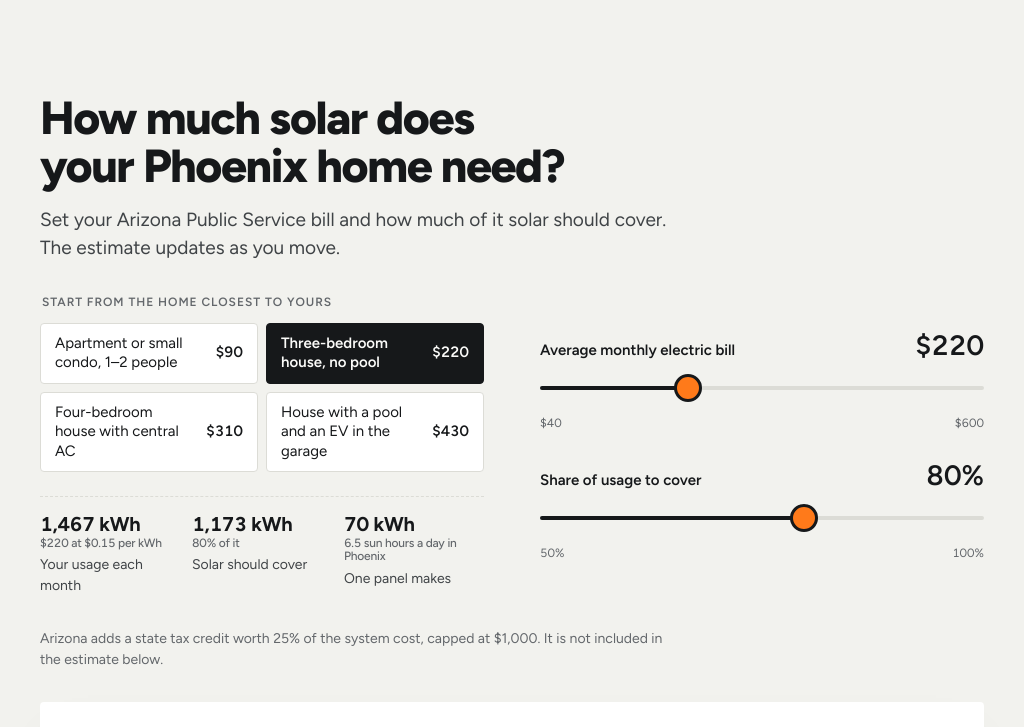
what the simulator explains › says the city minimum raised the panel count
This screenshot has width=1024, height=727.
Click the button "Apartment or small condo, 1–2 people $90" at (149, 353), box [40,323,258,384]
(page scrolled)
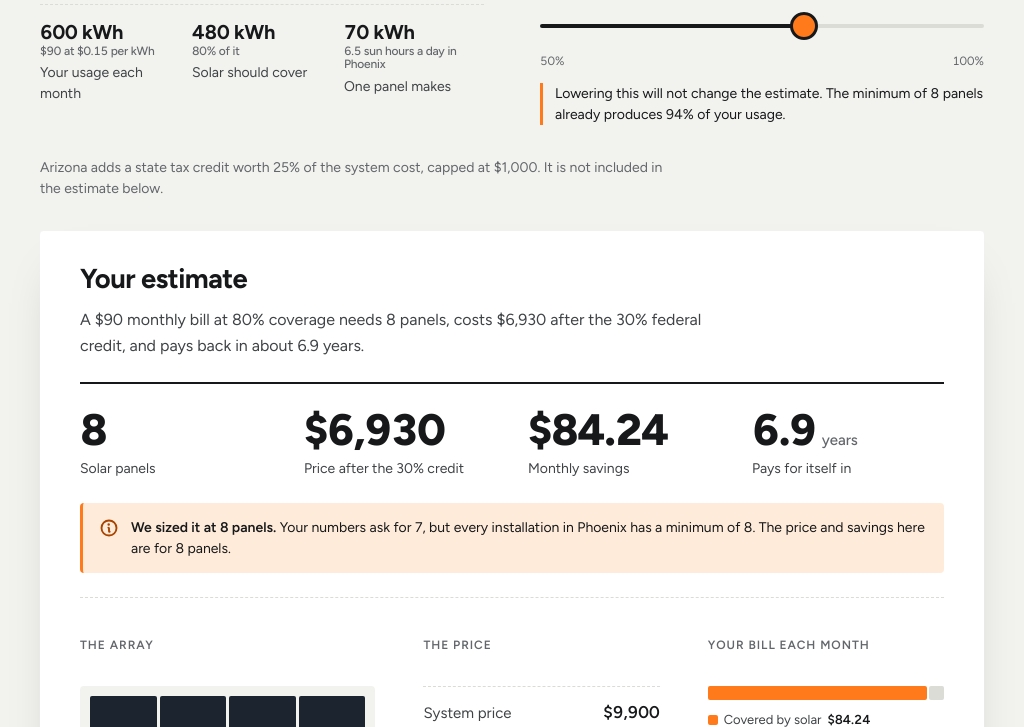
Expected: the text "8 panels" is shown, [80,307,716,358]
